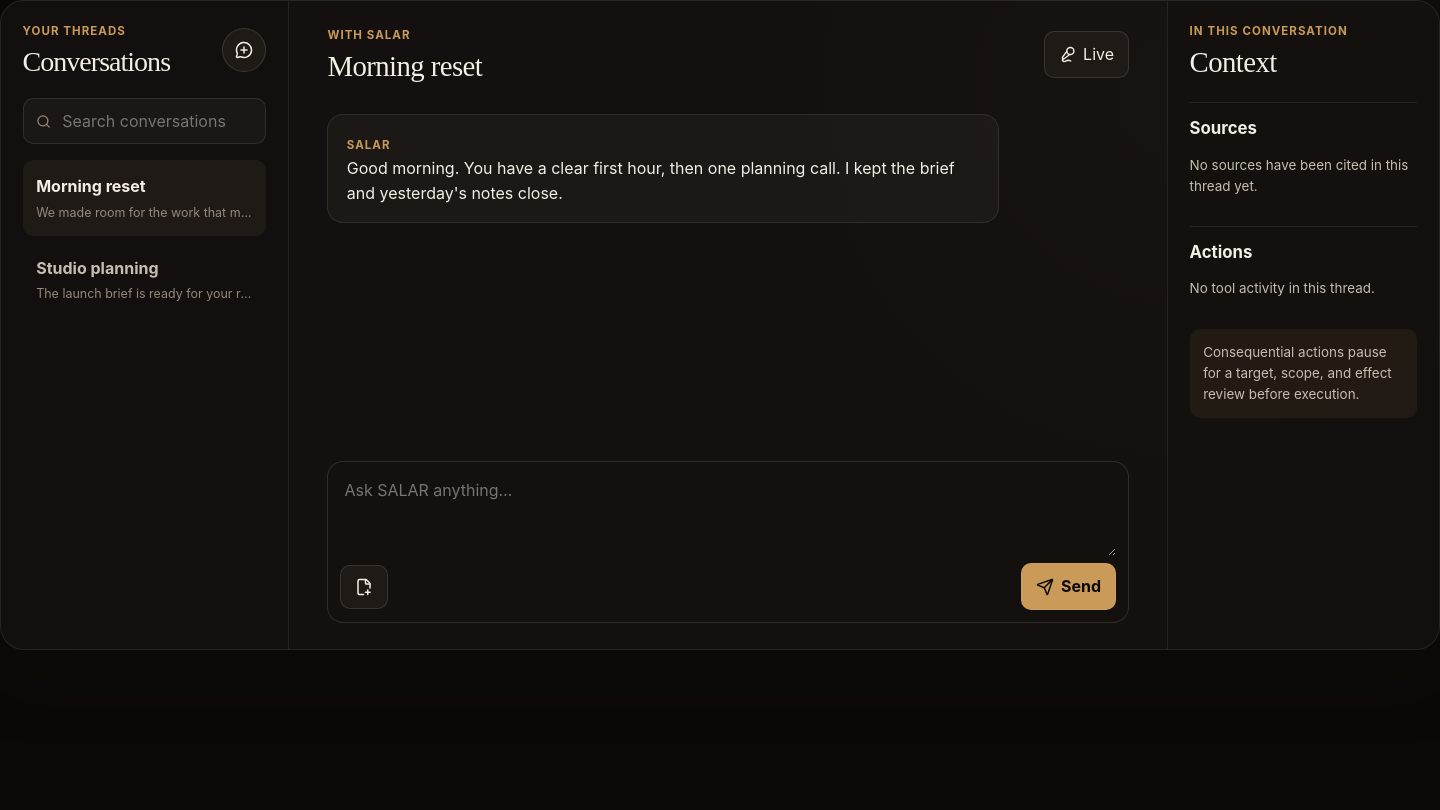
Test: ConversationWorkspace › optimistically inserts the user message and accumulates streamed tokens
Step 1. Type "Help me plan" into the text box named "Message SALAR" → (728, 515), box left=340, top=474, right=1116, bottom=556
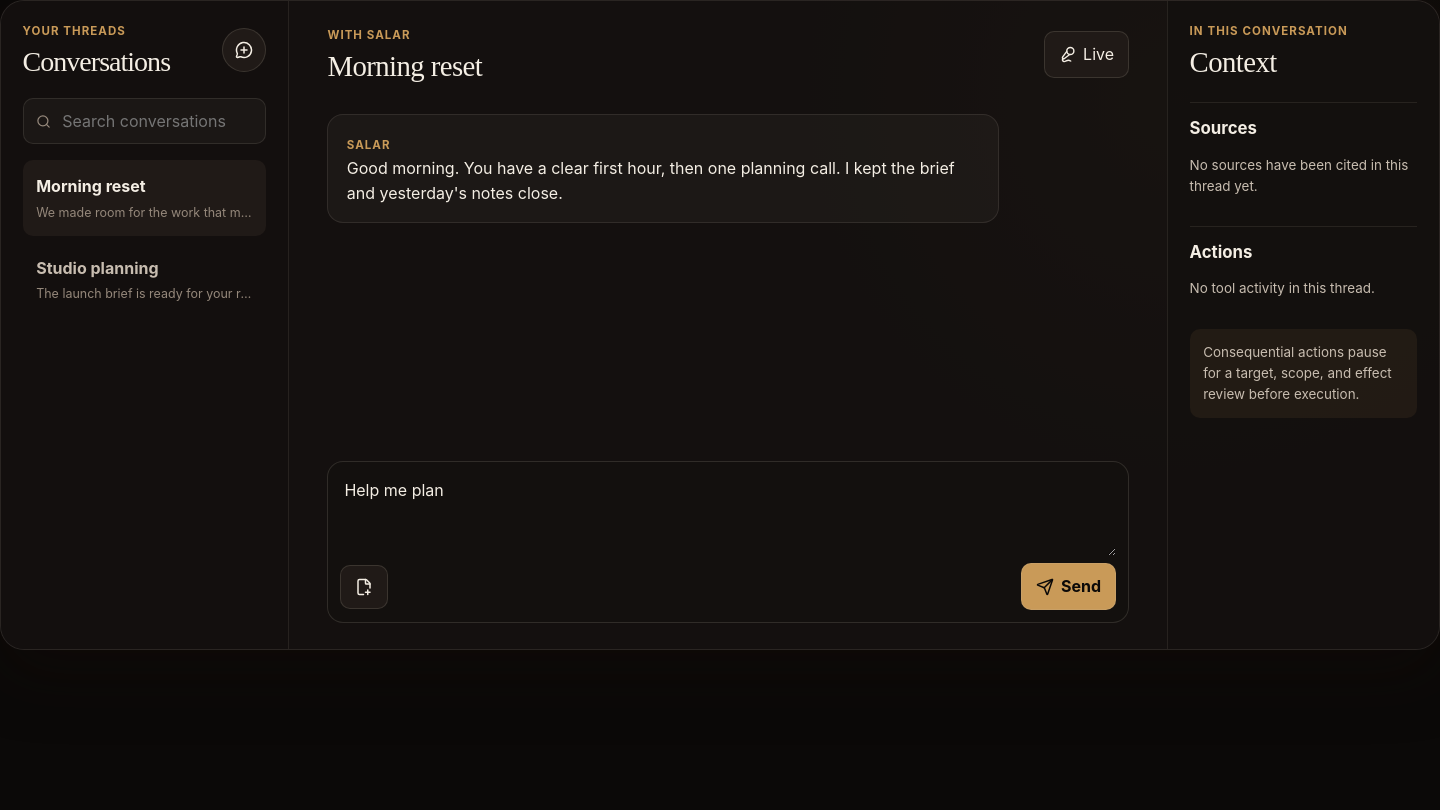
Step 2. Click the button with aria-label "Send message" → (1068, 587), box left=1021, top=563, right=1116, bottom=610
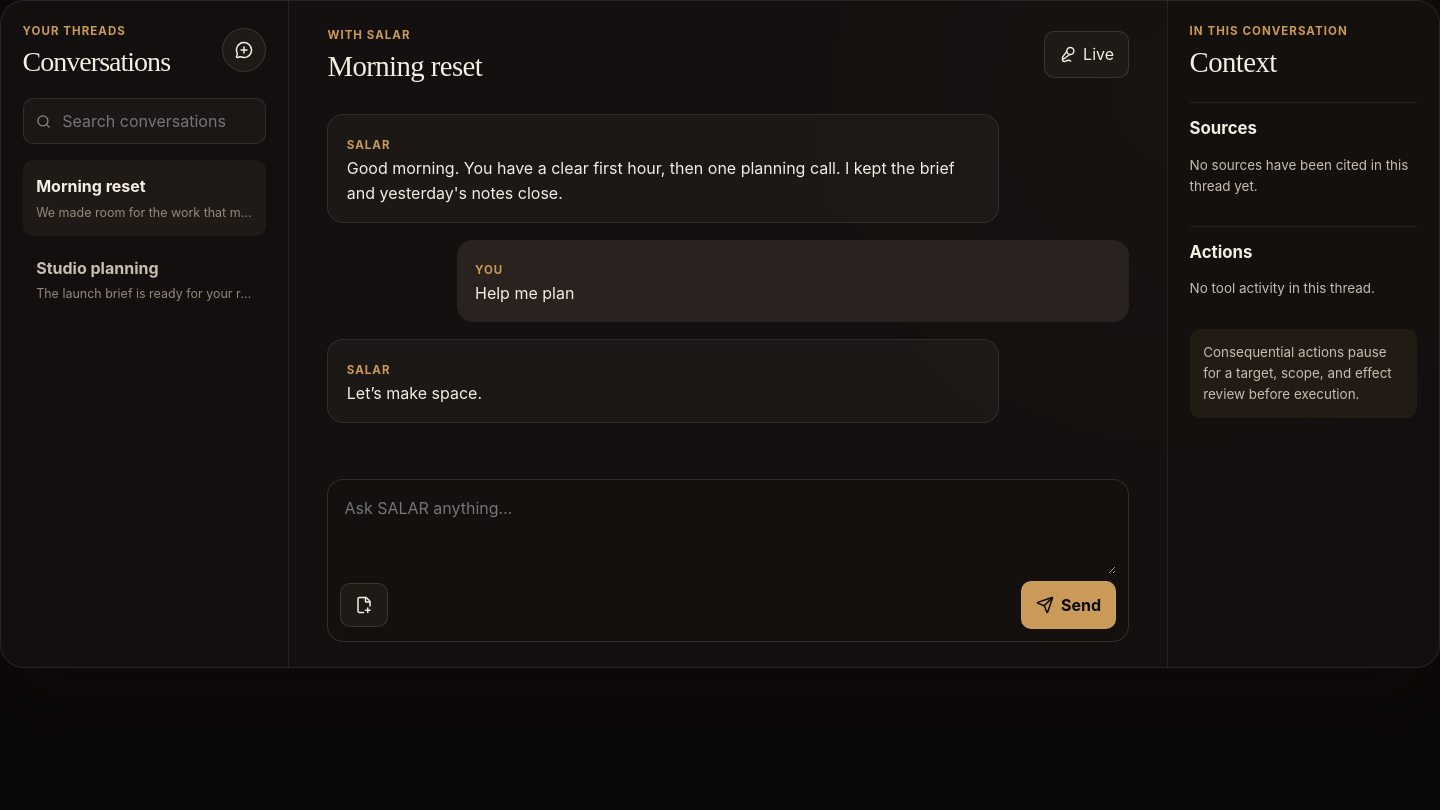
Expected: the text "Help me plan" is shown, left=475, top=283, right=574, bottom=303
Expected: the text "Let’s make space." is shown, left=347, top=383, right=482, bottom=403
